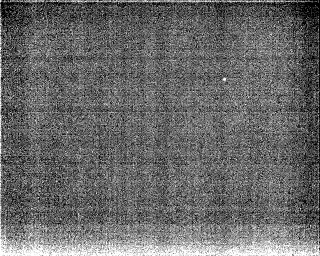BIRD: (220, 75, 229, 85)
